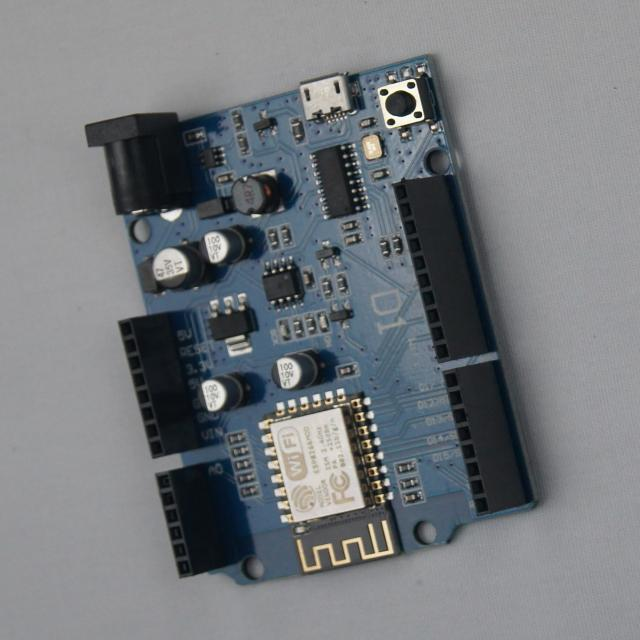Arduino Uno WiFi Shield: (87, 55, 535, 585)
